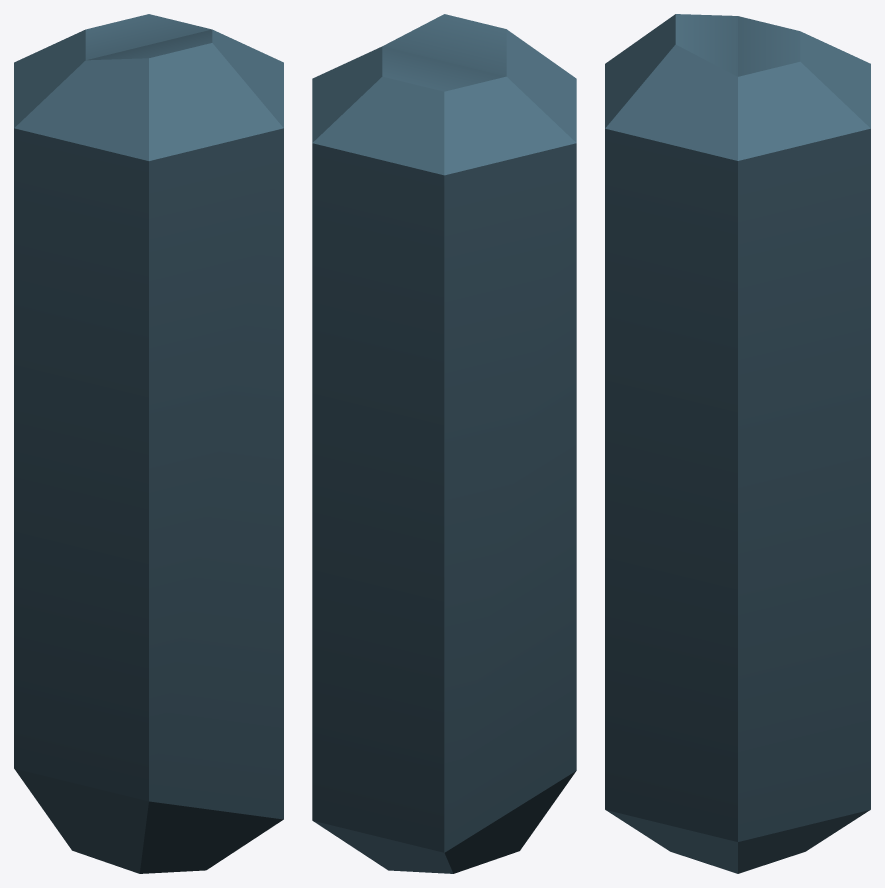
The model's file is geology-crystals-calcitecrystal_v8.fbx.
The picture shows the model from 3 angles, left to right: view 1: azimuth 30°, elevation 25°; view 2: azimuth 150°, elevation 25°; view 3: azimuth 270°, elevation 25°; orthographic projection. The views are drawn at different scales.
Visible parts, largest first — view 1: CalciteCrystal_v8; view 2: CalciteCrystal_v8; view 3: CalciteCrystal_v8.
Boxes of the visible parts, x1,y1,x2,y2 form: CalciteCrystal_v8: [14, 14, 283, 873]; CalciteCrystal_v8: [312, 14, 576, 873]; CalciteCrystal_v8: [605, 14, 870, 873].
Bounding box in the file's own units: 1.39 × 4.09 × 1.21.
